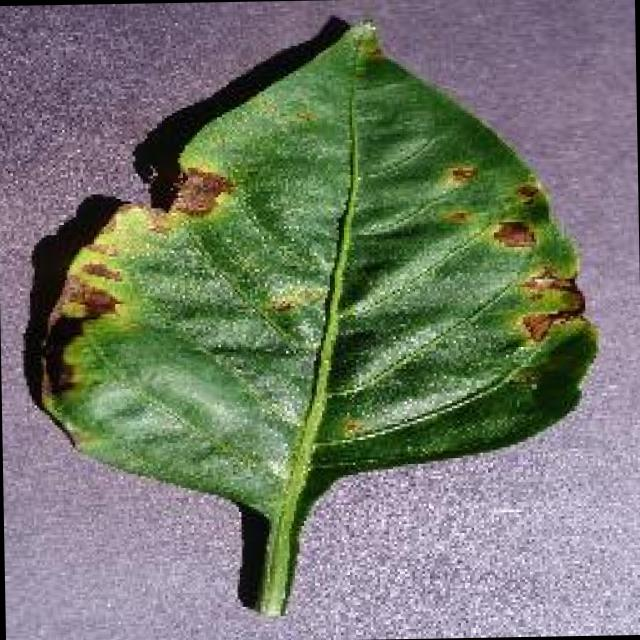Chilli_Bacterial_Spot: (15, 10, 605, 620), (29, 140, 592, 440), (32, 162, 239, 410), (430, 155, 588, 350), (512, 266, 586, 346), (162, 162, 230, 220), (262, 275, 328, 321), (344, 14, 386, 80), (56, 281, 118, 325), (516, 266, 574, 298), (488, 216, 536, 252), (514, 308, 560, 344), (74, 256, 122, 287), (332, 409, 368, 442), (435, 202, 473, 230), (445, 160, 480, 188), (510, 178, 540, 206)
